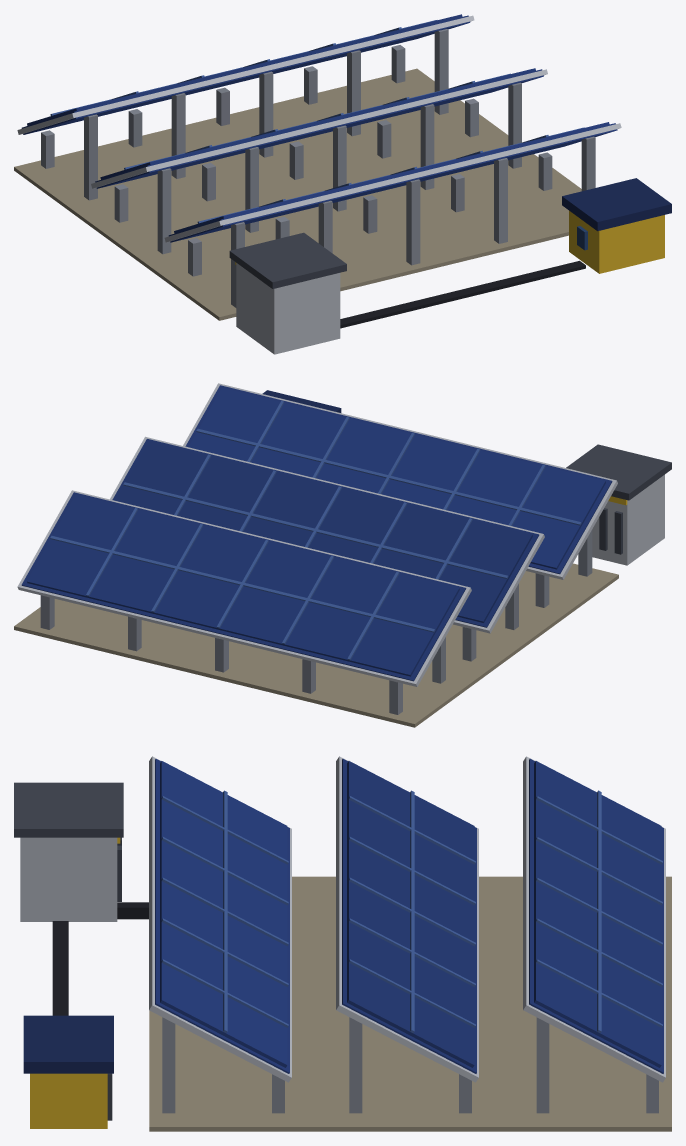
Rendered from Decor_LaunchPad_Solar.fbx.
The picture shows the model from 3 angles, top to bottom: view 1: azimuth 30°, elevation 25°; view 2: azimuth 150°, elevation 25°; view 3: azimuth 270°, elevation 25°; orthographic projection. The views are drawn at different scales.
Parts seen in each view (by area): view 1: Solar_Body; view 2: Solar_Body; view 3: Solar_Body.
Part boxes in pixels (left/top/right/bottom): Solar_Body: left=14, top=14, right=671, bottom=354; Solar_Body: left=14, top=383, right=671, bottom=727; Solar_Body: left=14, top=756, right=671, bottom=1131.
Size of the model in its own units: 18 by 4.3 by 20.
